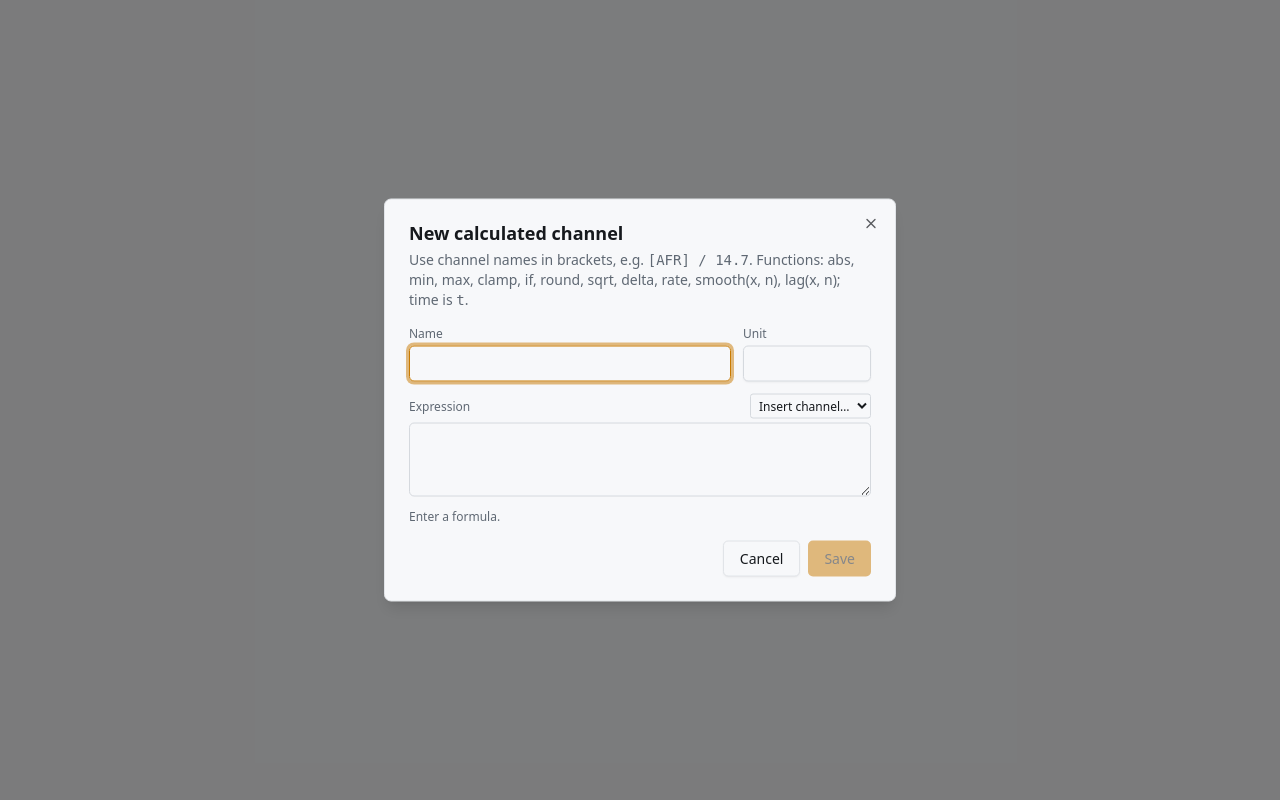
Scenario: an unknown channel is reported
The width and height of the screenshot is (1280, 800).
Type "X" into the field labelled "Name" at (570, 364), box [409,346,731,382]
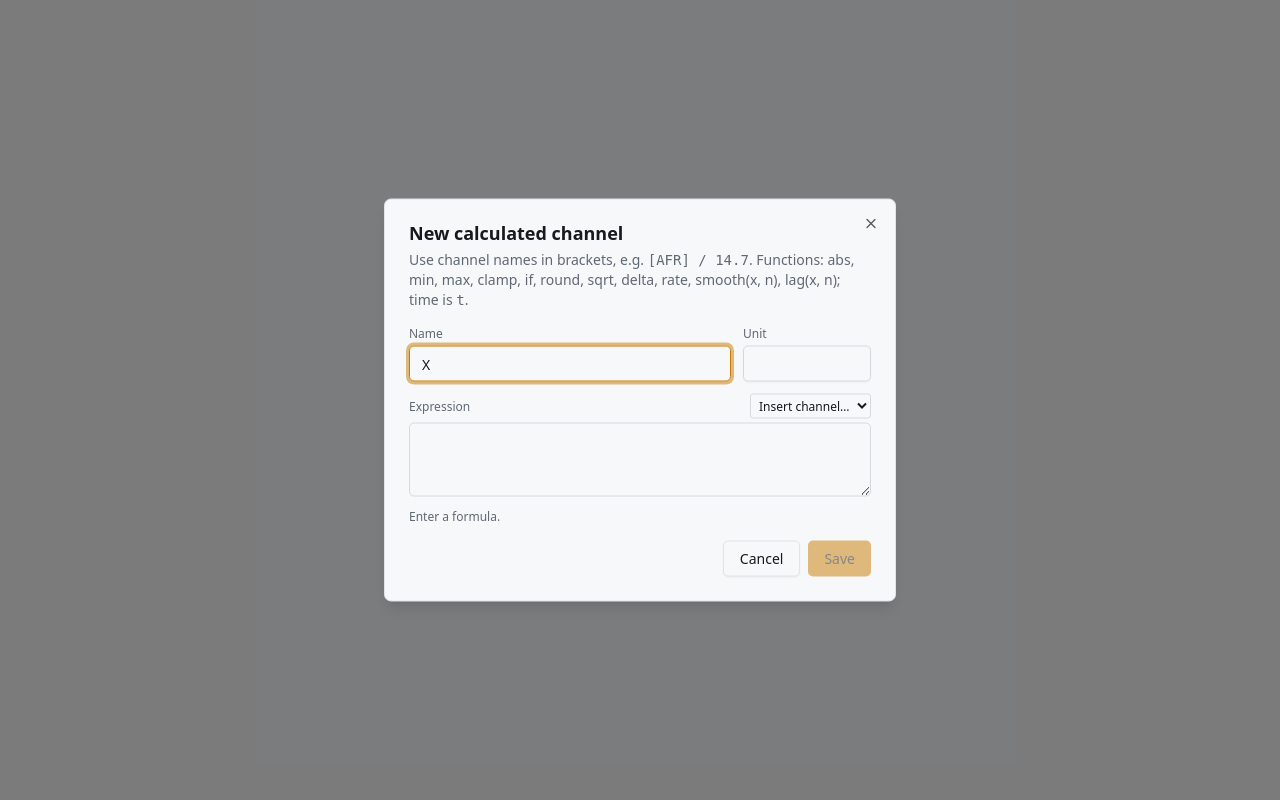
Type "[Boost] * 2" into the text box named "Expression" at (640, 460), box [409,422,871,496]
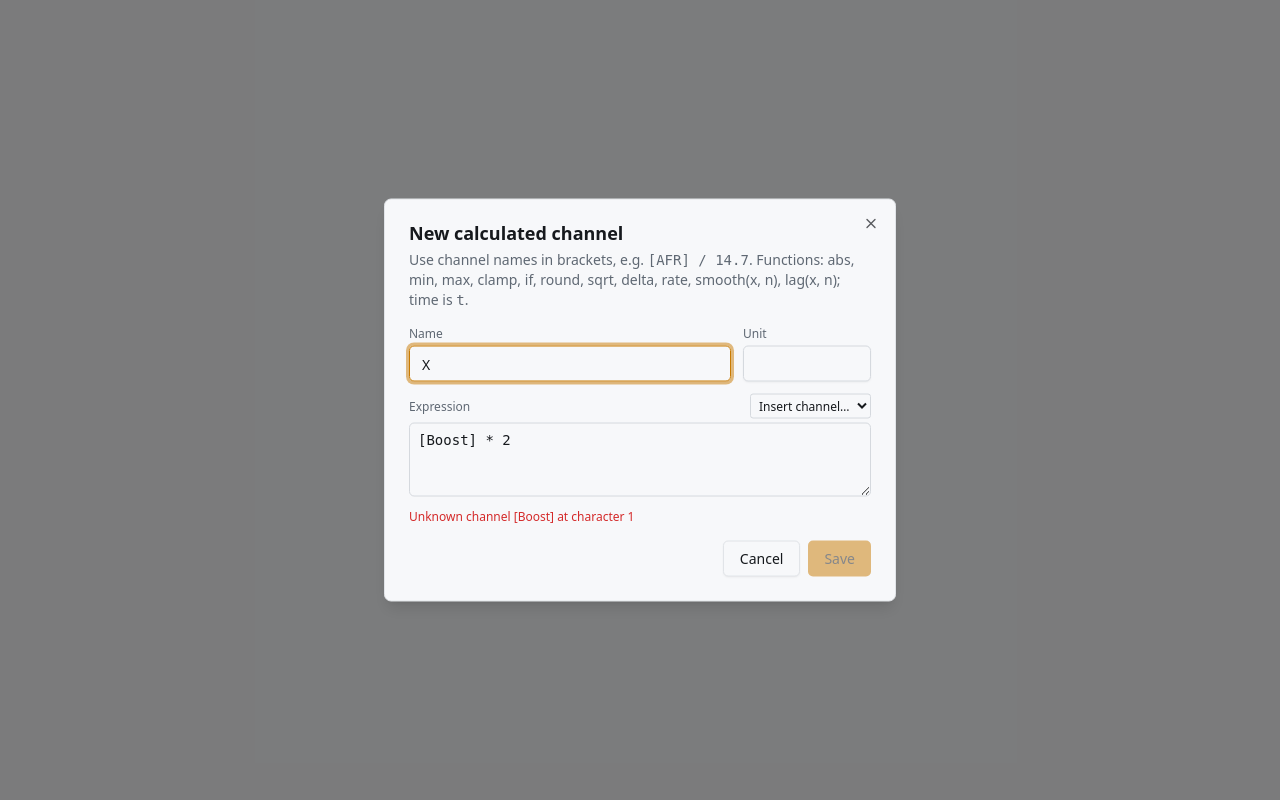
Expected: the button "Save" is disabled, [808,540,871,576]
Expected: the text "Unknown channel [Boost] at character 1" is shown, [409,508,634,524]
